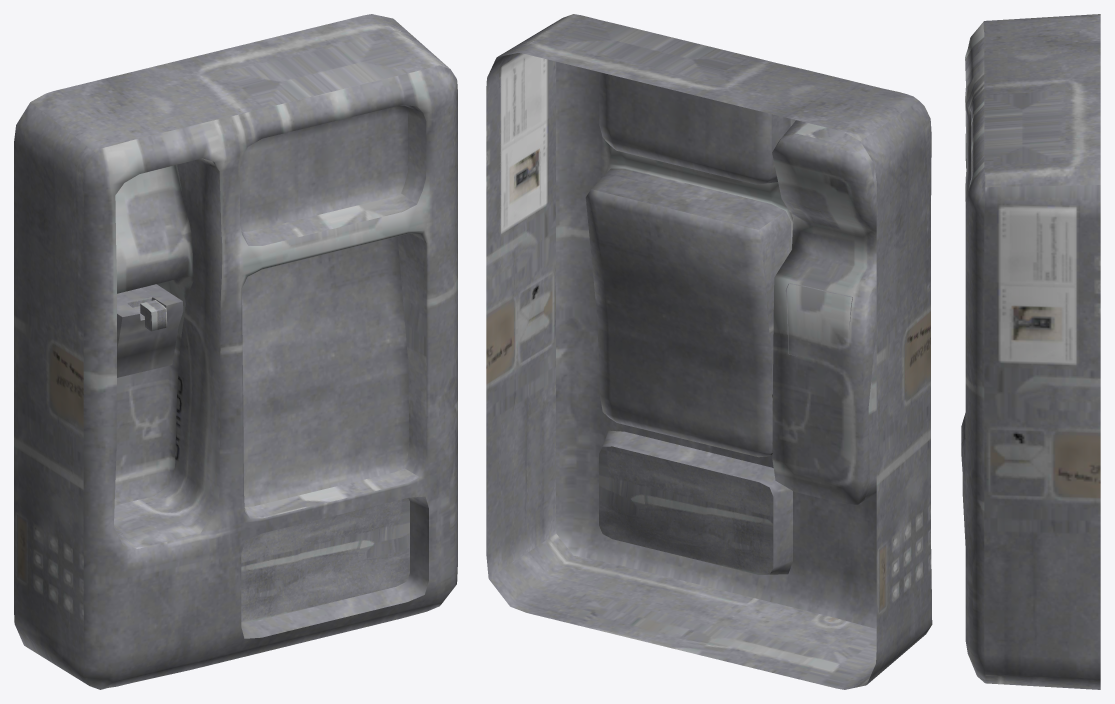
Rendered from payphone.glb.
The picture shows the model from 3 angles, left to right: view 1: azimuth 30°, elevation 25°; view 2: azimuth 150°, elevation 25°; view 3: azimuth 270°, elevation 25°; orthographic projection. The views are drawn at different scales.
Parts seen in each view (by area): view 1: PayPhone02; view 2: PayPhone02; view 3: PayPhone02.
Part boxes in pixels (<box>): PayPhone02: <box>14,14,457,689</box>; PayPhone02: <box>486,14,932,689</box>; PayPhone02: <box>961,14,1100,689</box>.
Bounding box in the file's own units: 4.83 × 6.6 × 1.6.
1 material, 1 textured.
